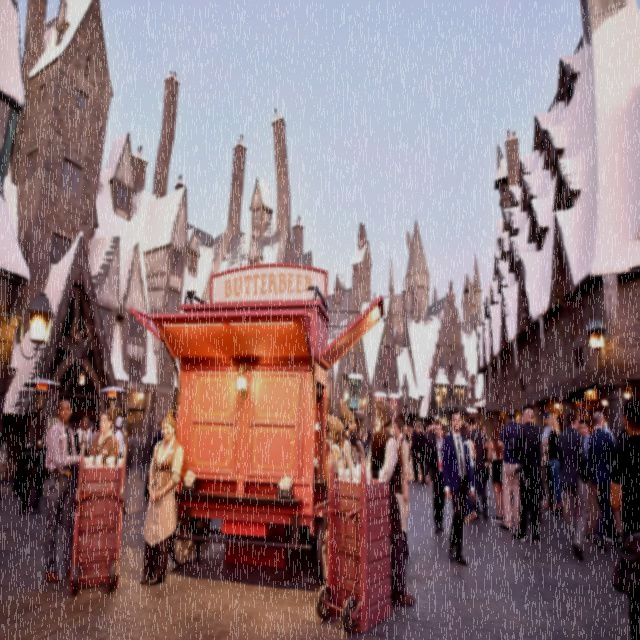pessoa: (364, 398, 417, 608), (140, 406, 184, 590), (608, 393, 640, 639), (42, 398, 83, 584), (442, 410, 476, 567), (586, 409, 624, 549), (558, 408, 590, 562), (511, 406, 543, 544), (574, 416, 604, 544), (497, 407, 522, 530), (424, 420, 446, 534), (468, 415, 490, 521), (392, 411, 412, 519), (142, 414, 166, 504), (86, 405, 120, 467), (542, 413, 561, 513), (459, 422, 477, 524), (487, 422, 505, 524), (326, 412, 346, 493), (540, 410, 556, 510), (338, 400, 358, 478), (403, 416, 453, 441), (89, 416, 132, 438), (414, 420, 428, 486), (406, 420, 419, 482), (74, 414, 92, 457), (603, 410, 629, 438), (480, 422, 491, 486), (114, 416, 125, 458), (402, 423, 412, 463), (353, 430, 373, 450), (364, 429, 372, 465), (460, 417, 472, 440), (357, 424, 366, 440)
